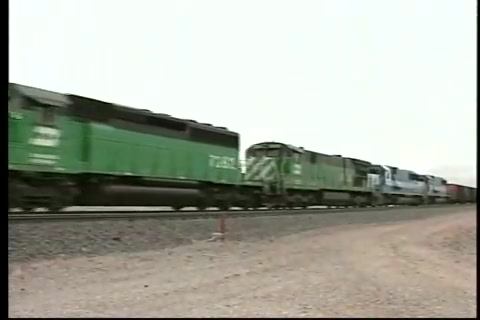train: (8, 81, 479, 212)
